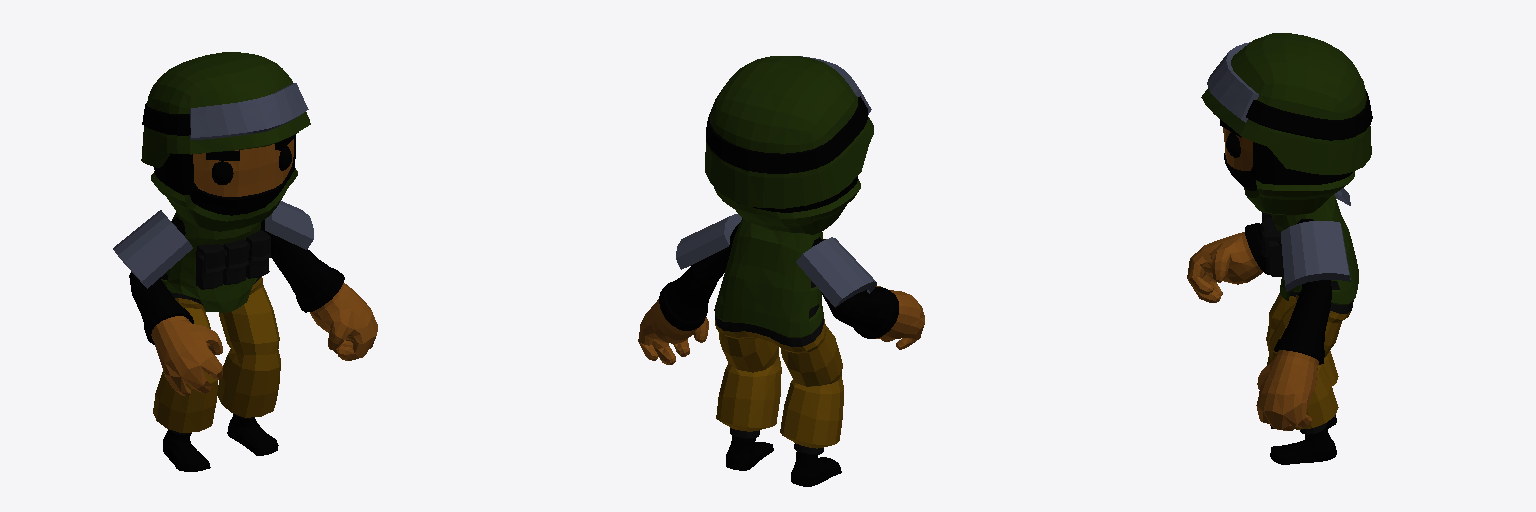
Rendered from Character_Soldier_Edited.obj.
3 views of the same model, side by side, from view 1: azimuth 30°, elevation 25°; view 2: azimuth 150°, elevation 25°; view 3: azimuth 270°, elevation 25° (orthographic).
Parts seen in each view (by area): view 1: Body, Head, ShoulderPad.R, ShoulderPad.L; view 2: Body, Head, ShoulderPad.R, ShoulderPad.L; view 3: Body, Head, ShoulderPad.L.
Boxes of the visible parts, box(x1,y1,x2,y2) form: Body: box(129, 134, 377, 471); Head: box(141, 52, 310, 184); ShoulderPad.R: box(113, 210, 192, 288); ShoulderPad.L: box(265, 201, 313, 249); Body: box(638, 176, 924, 486); Head: box(705, 56, 873, 208); ShoulderPad.R: box(796, 237, 876, 307); ShoulderPad.L: box(676, 214, 741, 269); Body: box(1187, 127, 1358, 464); Head: box(1201, 33, 1372, 174); ShoulderPad.L: box(1281, 221, 1350, 291).
Bounding box in the file's own units: 1.41 × 2.2 × 0.9328.